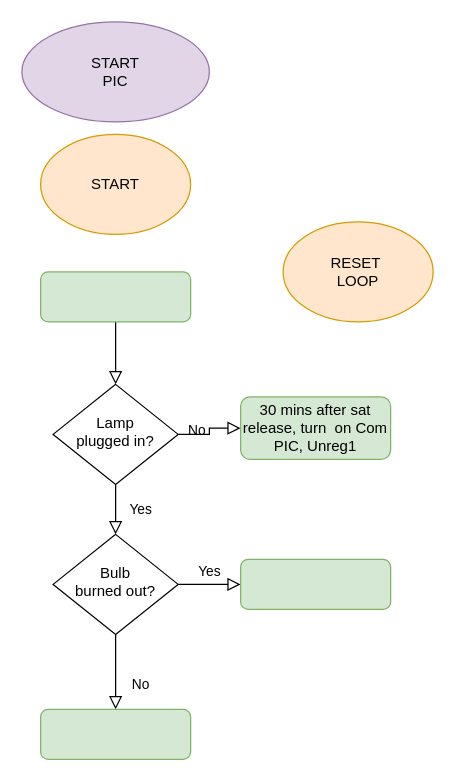
Some shapes in this 455 by 781 pixel diagram are drawn without their labels. Each missing label, with the centre of its shape:
Repair Lamp: the point at 115,733
Replace Bulb: the point at 315,583
Turn on Main PIC, Unreg1: the point at 115,296
